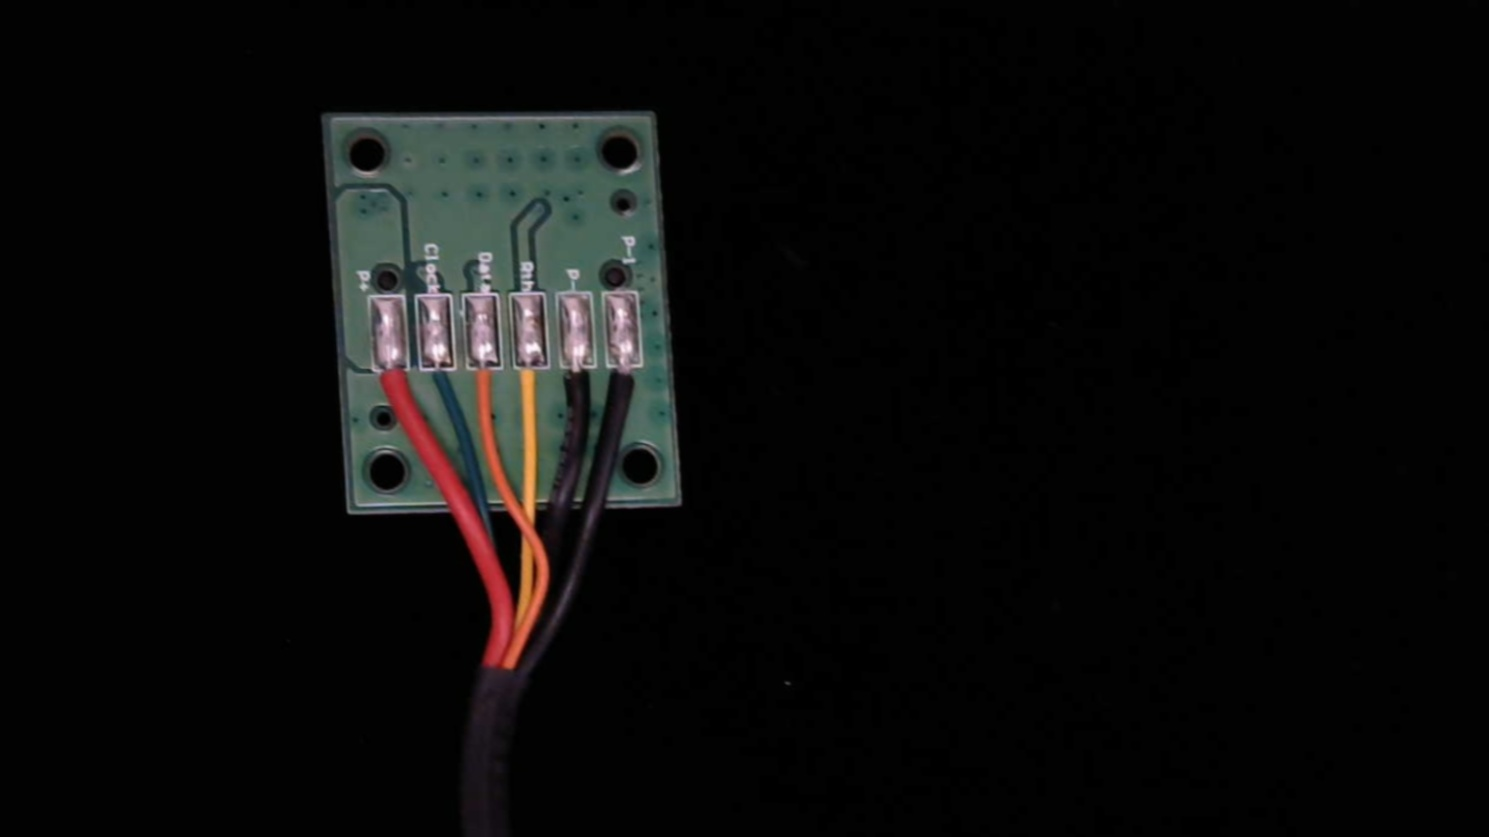Black: (558, 348, 596, 423)
Black1: (605, 345, 648, 425)
Green: (418, 350, 460, 415)
Orange: (464, 349, 507, 425)
Red: (370, 351, 414, 435)
Yellow: (510, 349, 552, 426)
